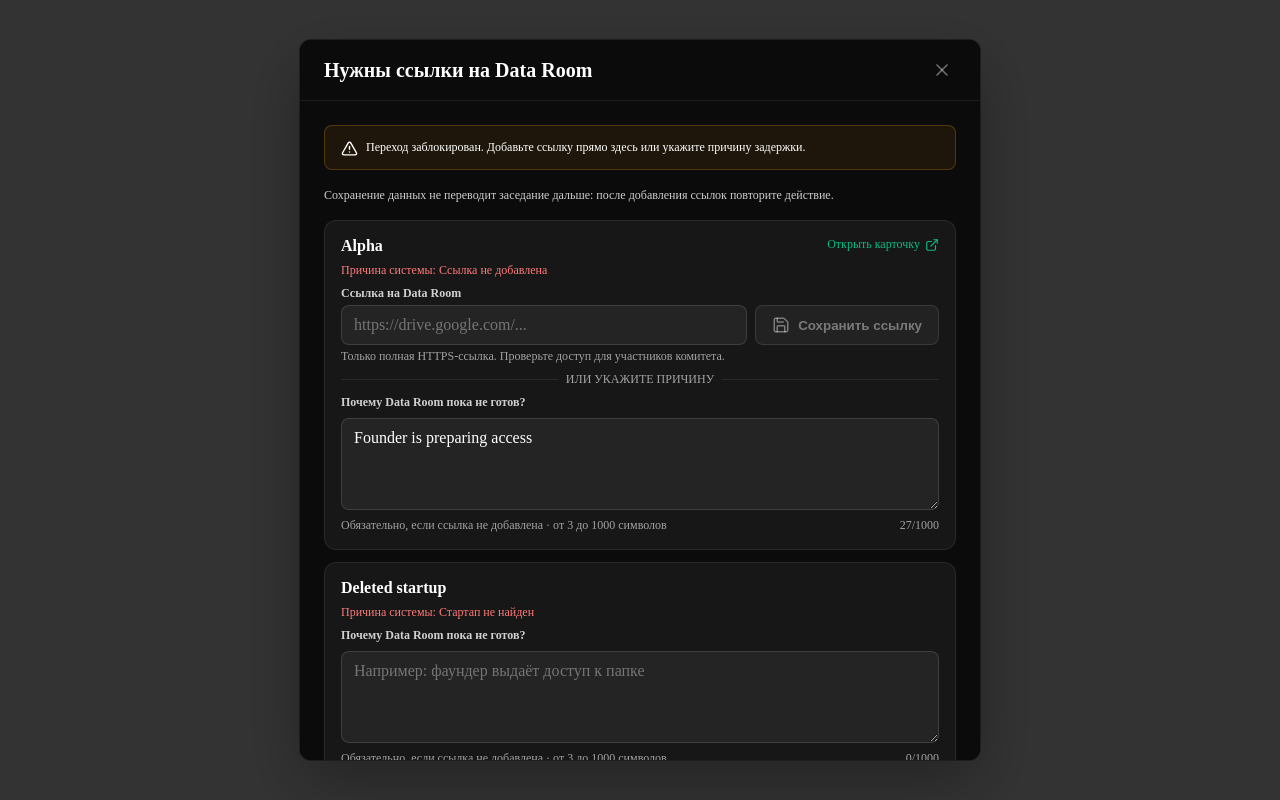
it: DataRoomBlockersDialog › keeps the entered link and shows a per-project API error
Type "https://example.com/data-room" into the field labelled "Ссылка на Data Room" at (544, 325), box [341,305,747,345]
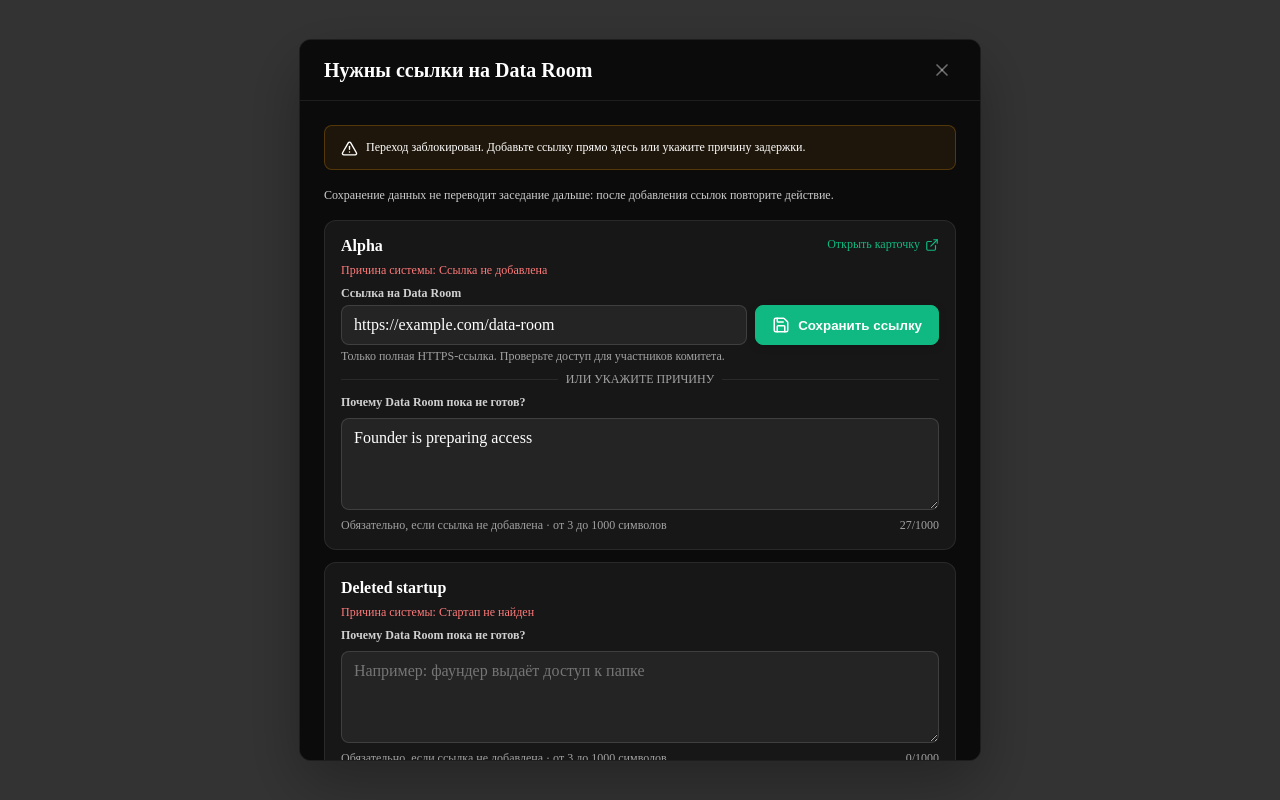
Click the button with aria-label "Сохранить ссылку для Alpha" at (847, 325), box [755,305,939,345]
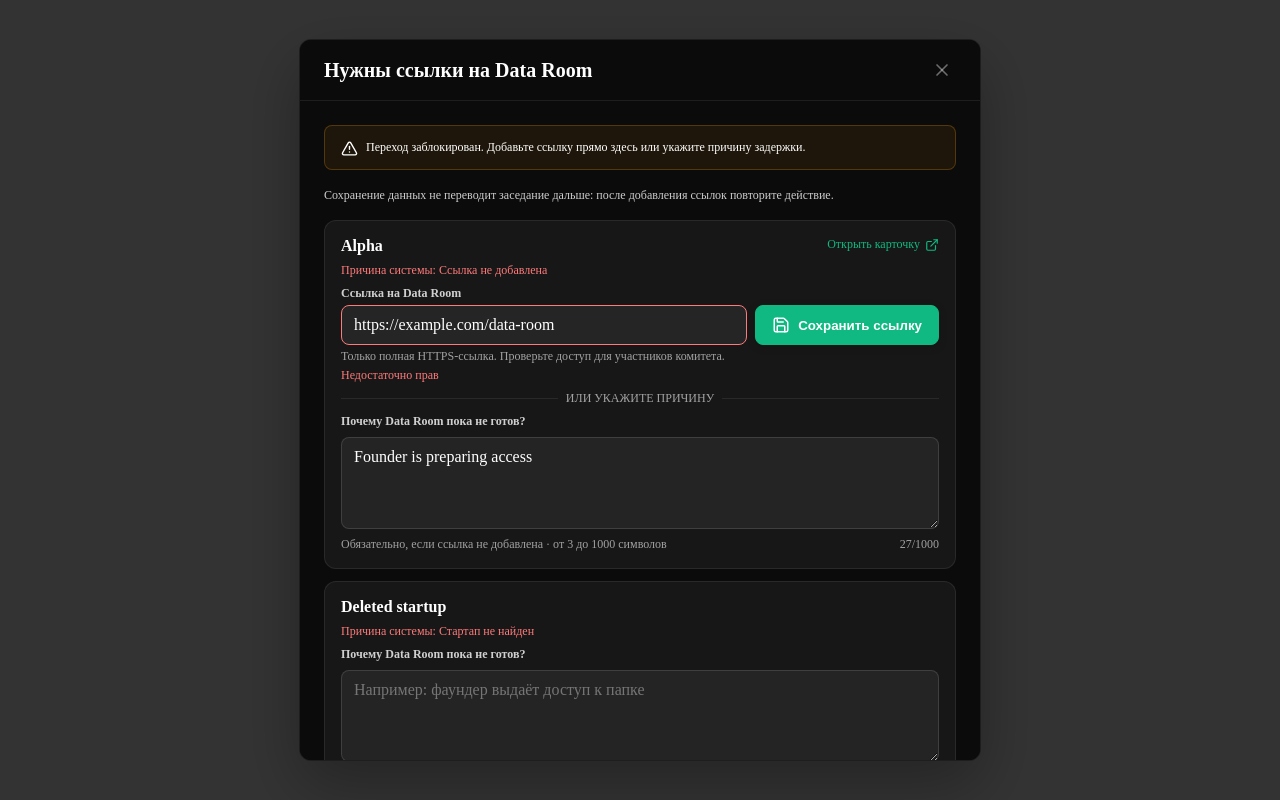
Expected: the text "Недостаточно прав" is shown, [341,368,439,382]
